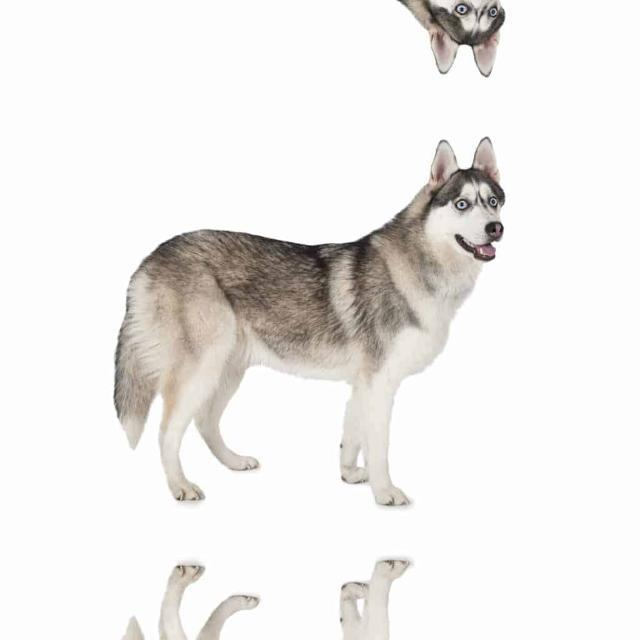dog: (132, 128, 574, 496), (131, 0, 574, 84), (131, 570, 574, 640)
